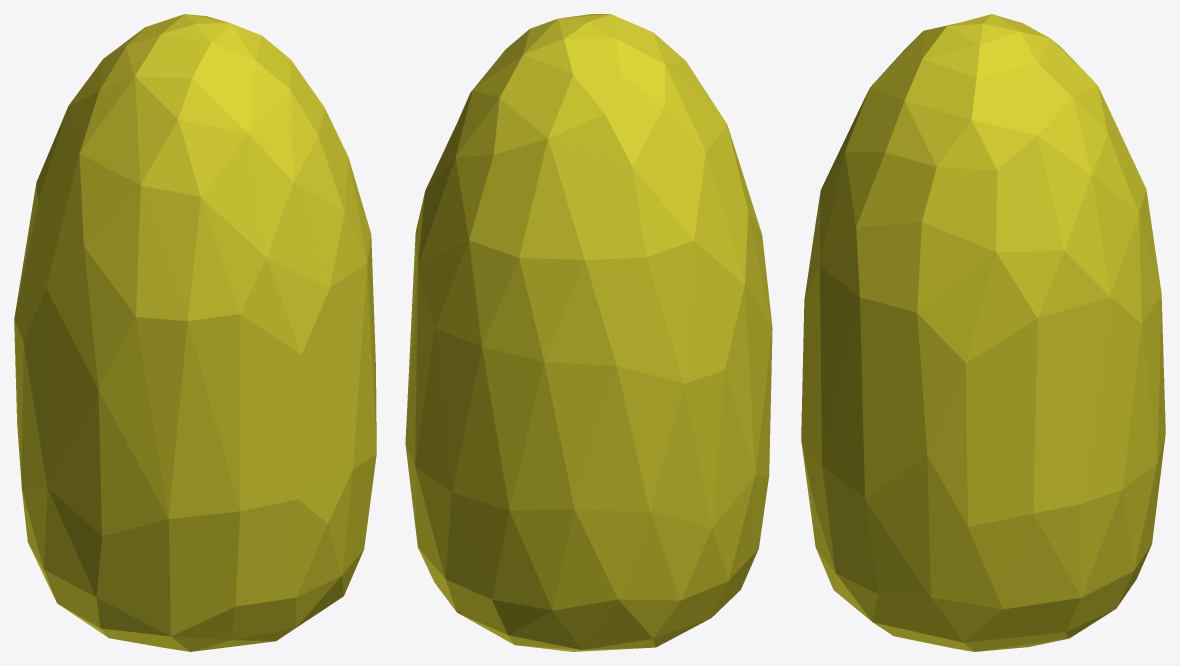
File: Plant_9.fbx
The picture shows the model from 3 angles, left to right: view 1: azimuth 30°, elevation 25°; view 2: azimuth 150°, elevation 25°; view 3: azimuth 270°, elevation 25°; orthographic projection.
Visible parts, largest first — view 1: Plant_9; view 2: Plant_9; view 3: Plant_9.
Boxes of the visible parts, x1,y1,x2,y2 form: Plant_9: (14,14,376,651); Plant_9: (405,14,772,651); Plant_9: (801,14,1165,651).
Size of the model in its own units: 32.48 by 59.24 by 32.62.
